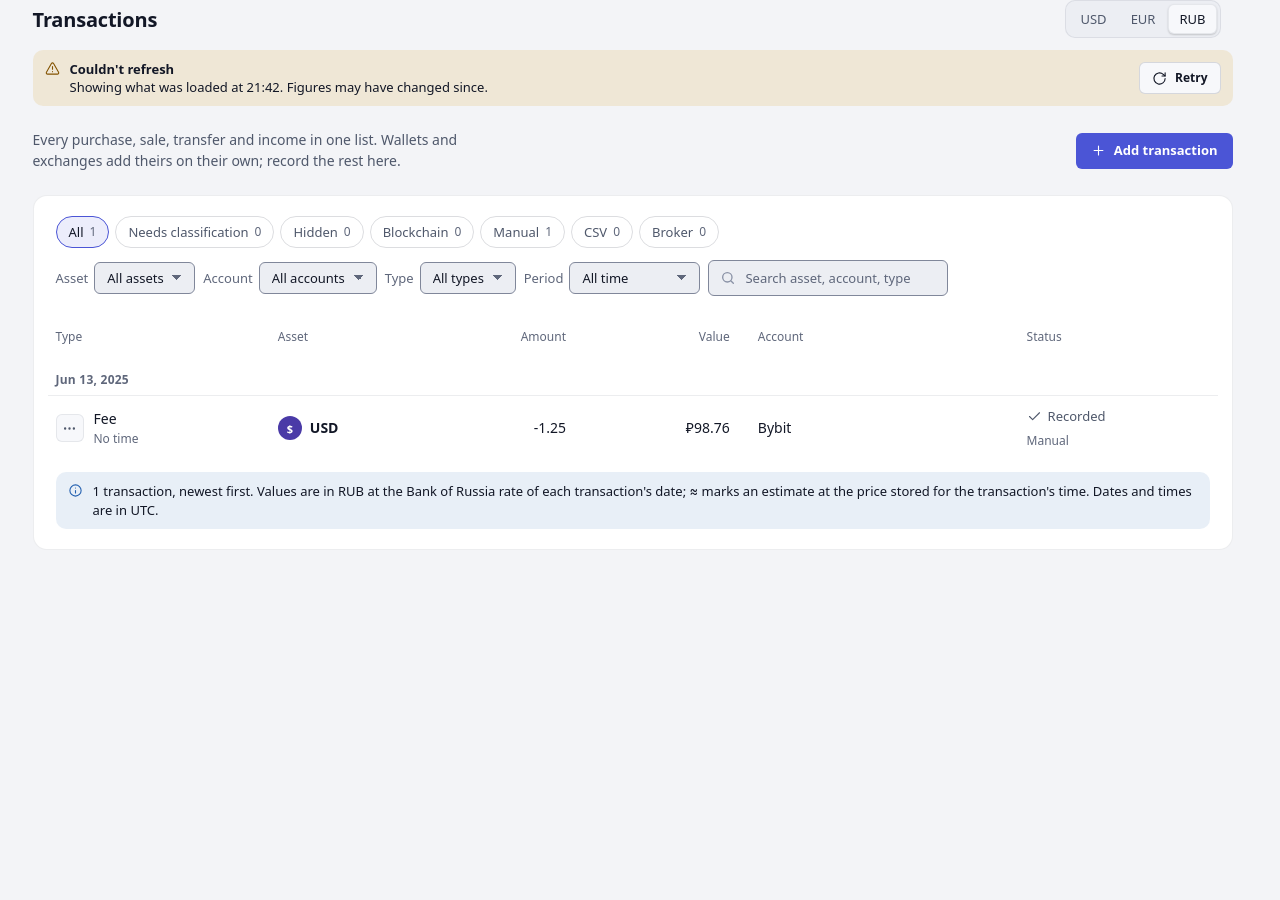
Test: TransactionsPage (list-all-operations) › RUB-LOSS-VALUE keeps fee values consistent across list and drawer: native=true
Step 1. Click the button "Fee" → point(105, 419), box [94, 409, 117, 430]
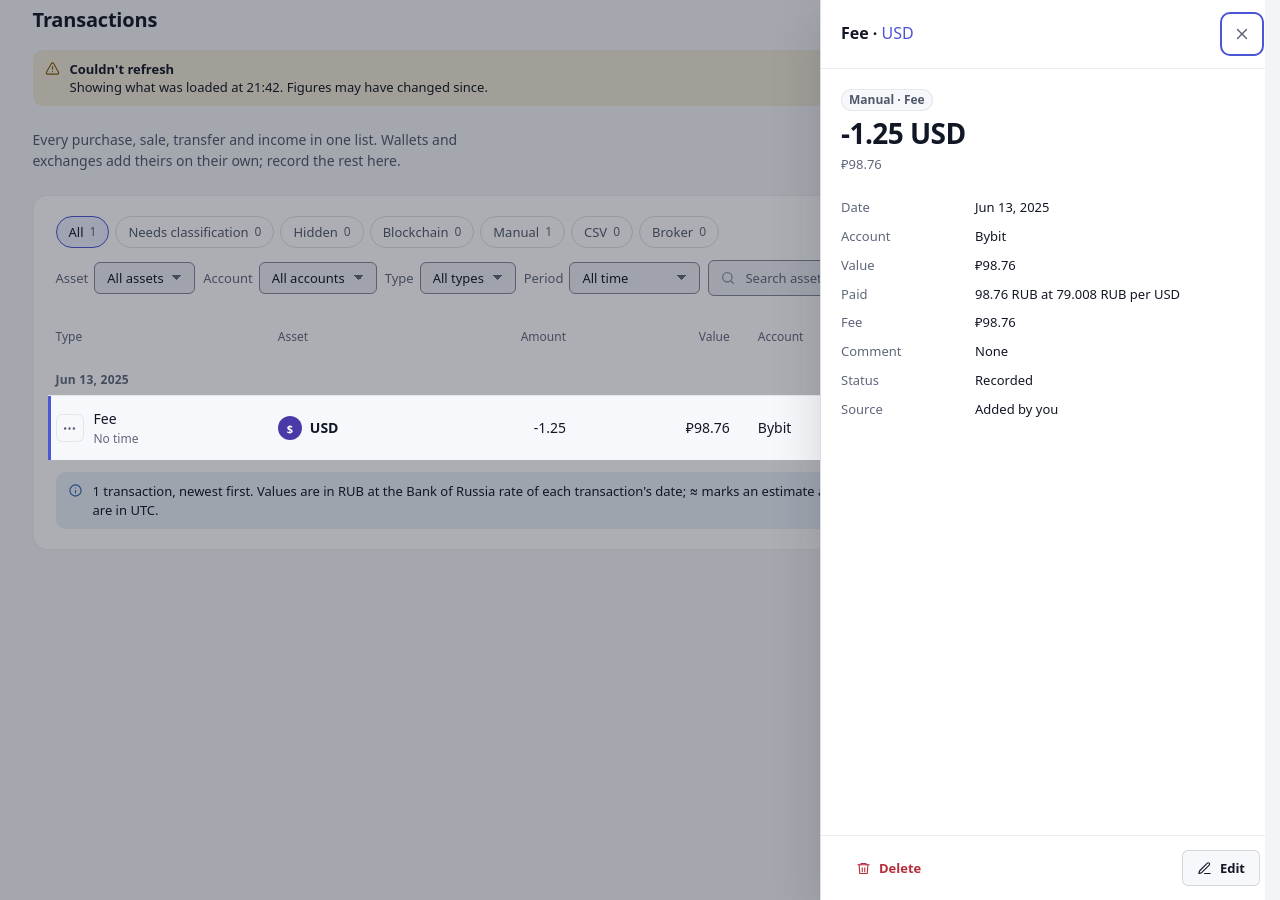
Expected: the 3rd text "₽98.76" is shown, [975, 313, 1016, 331]
